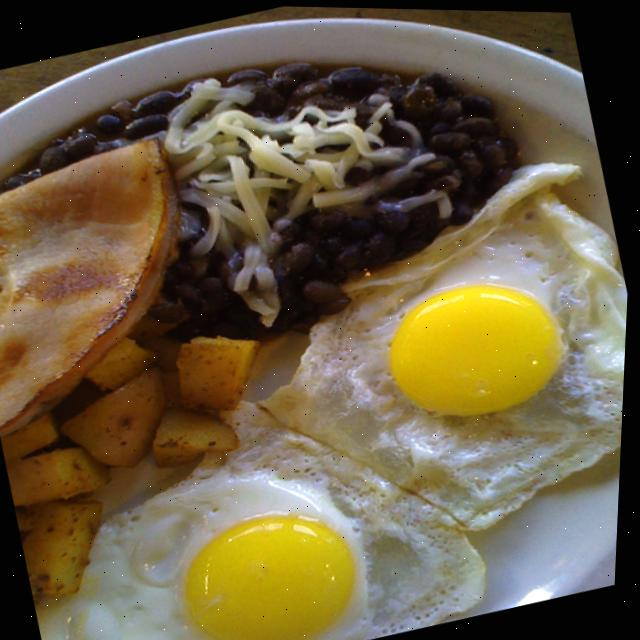鸡蛋料理: (0, 189, 633, 640)
